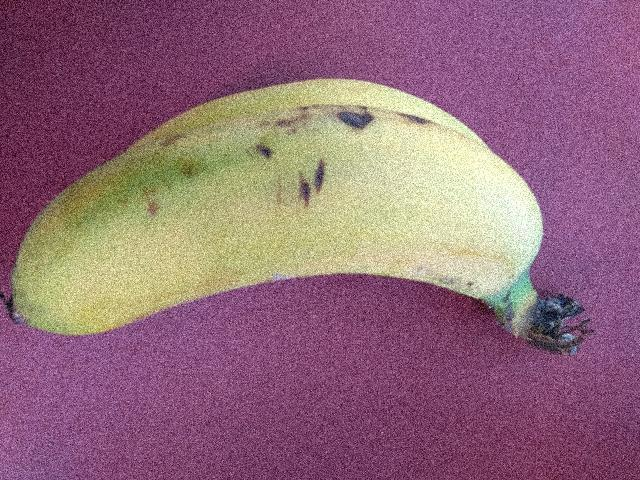ripe: (0, 94, 561, 364)
